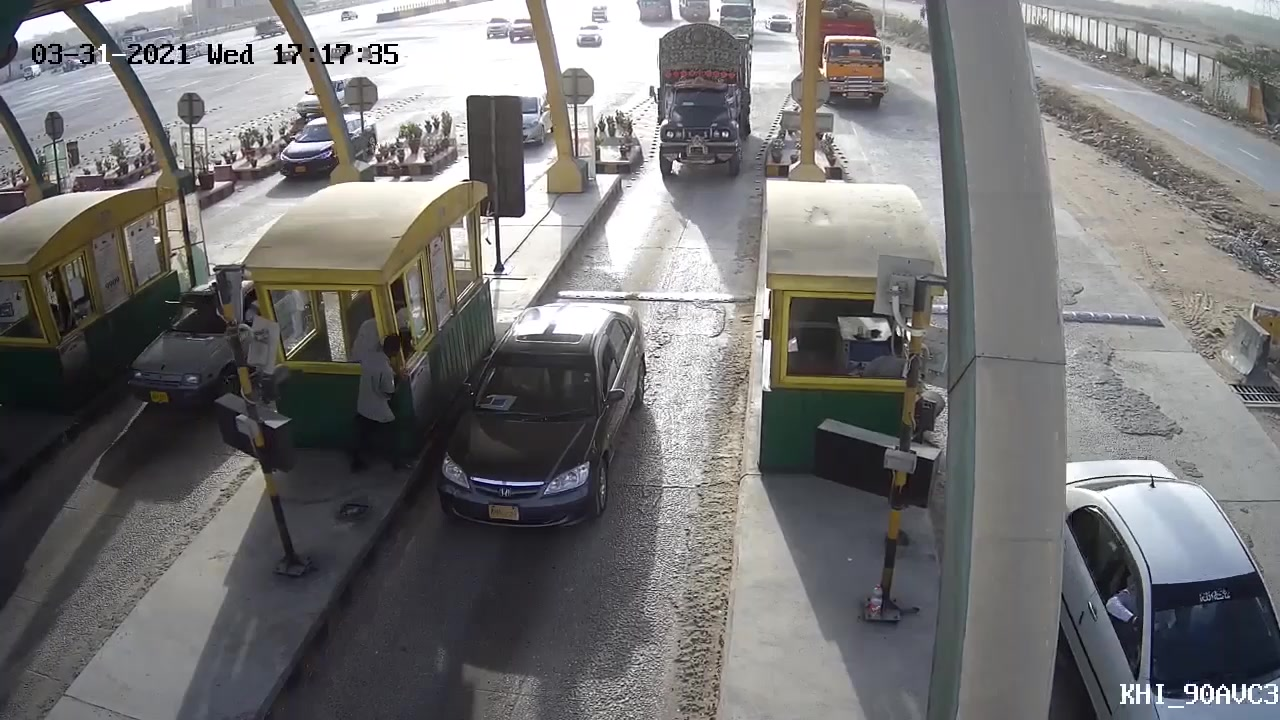F1: (429, 296, 651, 526)
F5: (652, 26, 757, 178)
